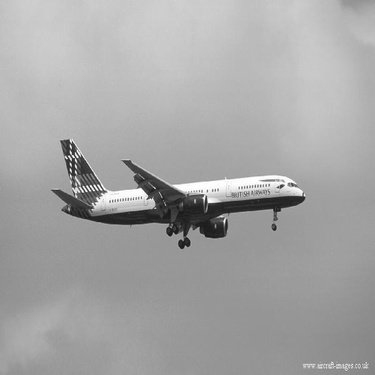airplane: (43, 135, 314, 251)
